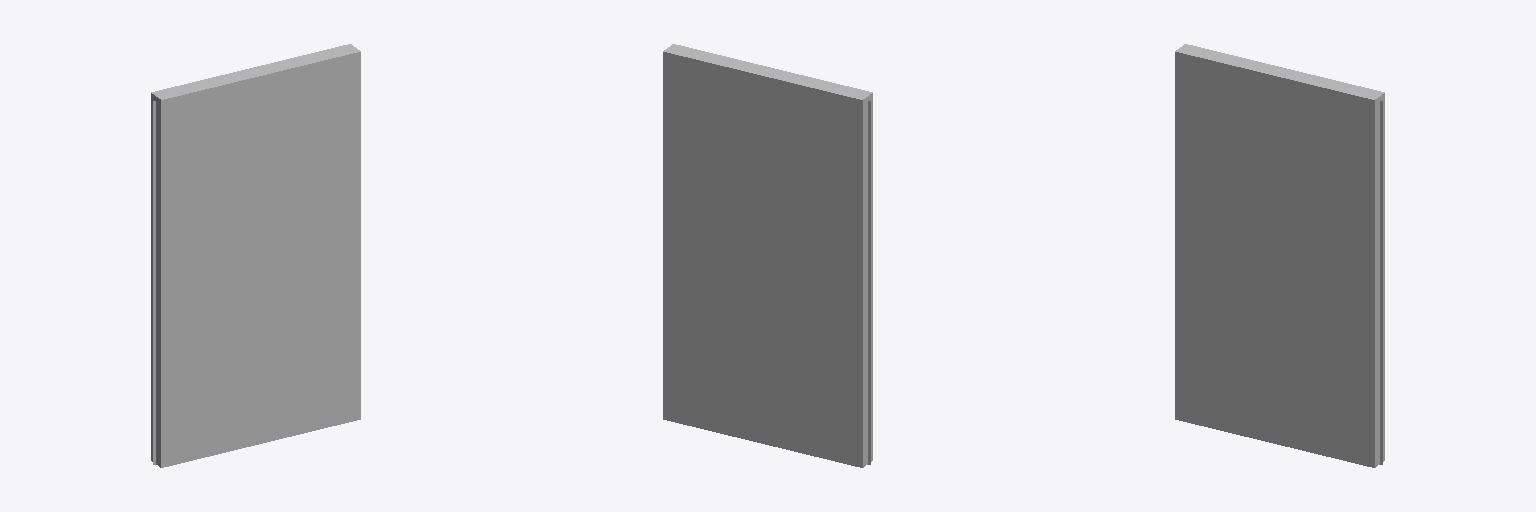
File: PortalPlan.obj
3 views of the same model, side by side, from view 1: azimuth 30°, elevation 25°; view 2: azimuth 150°, elevation 25°; view 3: azimuth 330°, elevation 25° (orthographic).
Parts seen in each view (by area): view 1: PortalPlan_cBox_Cube.105, PortalPlan_Plane.001; view 2: PortalPlan_cBox_Cube.105, PortalPlan_Plane.001; view 3: PortalPlan_cBox_Cube.105, PortalPlan_Plane.001.
Part boxes in pixels (bbox=[...]): PortalPlan_cBox_Cube.105: bbox=[151, 44, 360, 467]; PortalPlan_Plane.001: bbox=[153, 101, 155, 464]; PortalPlan_cBox_Cube.105: bbox=[663, 44, 872, 467]; PortalPlan_Plane.001: bbox=[868, 101, 870, 464]; PortalPlan_cBox_Cube.105: bbox=[1175, 44, 1384, 467]; PortalPlan_Plane.001: bbox=[1380, 101, 1382, 464].
Bounding box in the file's own units: 3.99 × 6.8 × 0.3533.